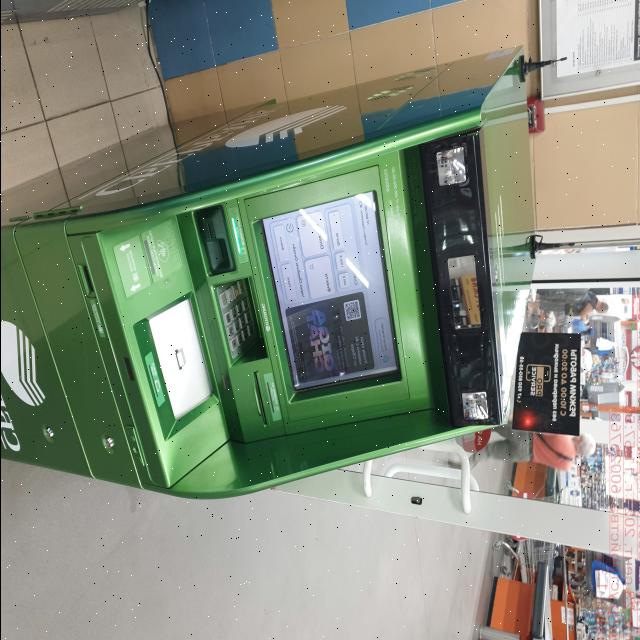bank: (0, 49, 534, 504)
